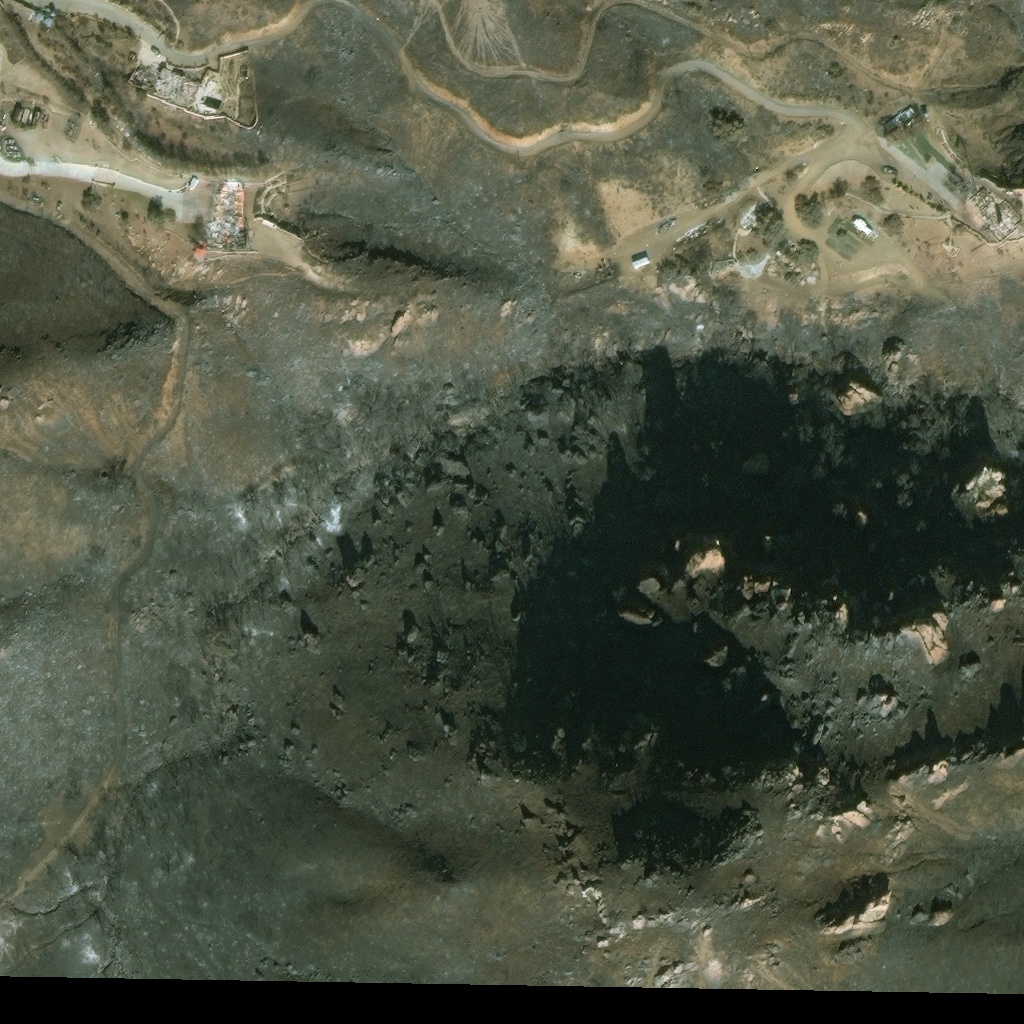1 minor-damage: (852, 215, 875, 236), (44, 16, 54, 26), (36, 11, 45, 20), (51, 9, 57, 15)
2 major-damage: (14, 102, 45, 128)
3 destroyed: (970, 183, 1023, 239), (133, 60, 197, 105), (211, 180, 251, 251), (886, 105, 919, 132), (740, 200, 767, 228), (193, 247, 205, 260), (242, 67, 250, 78), (574, 269, 583, 278), (191, 176, 199, 186), (1015, 190, 1023, 197), (923, 110, 930, 117)
